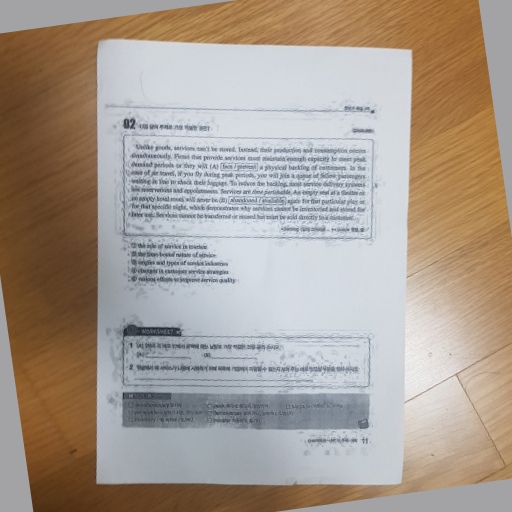Paper_2: (88, 29, 419, 496)
